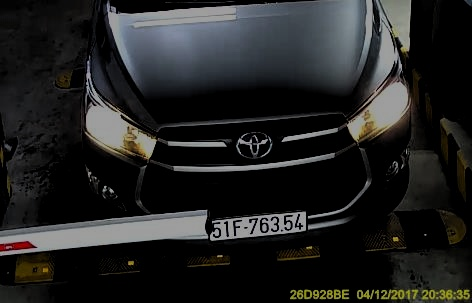plate: (204, 212, 310, 240)
